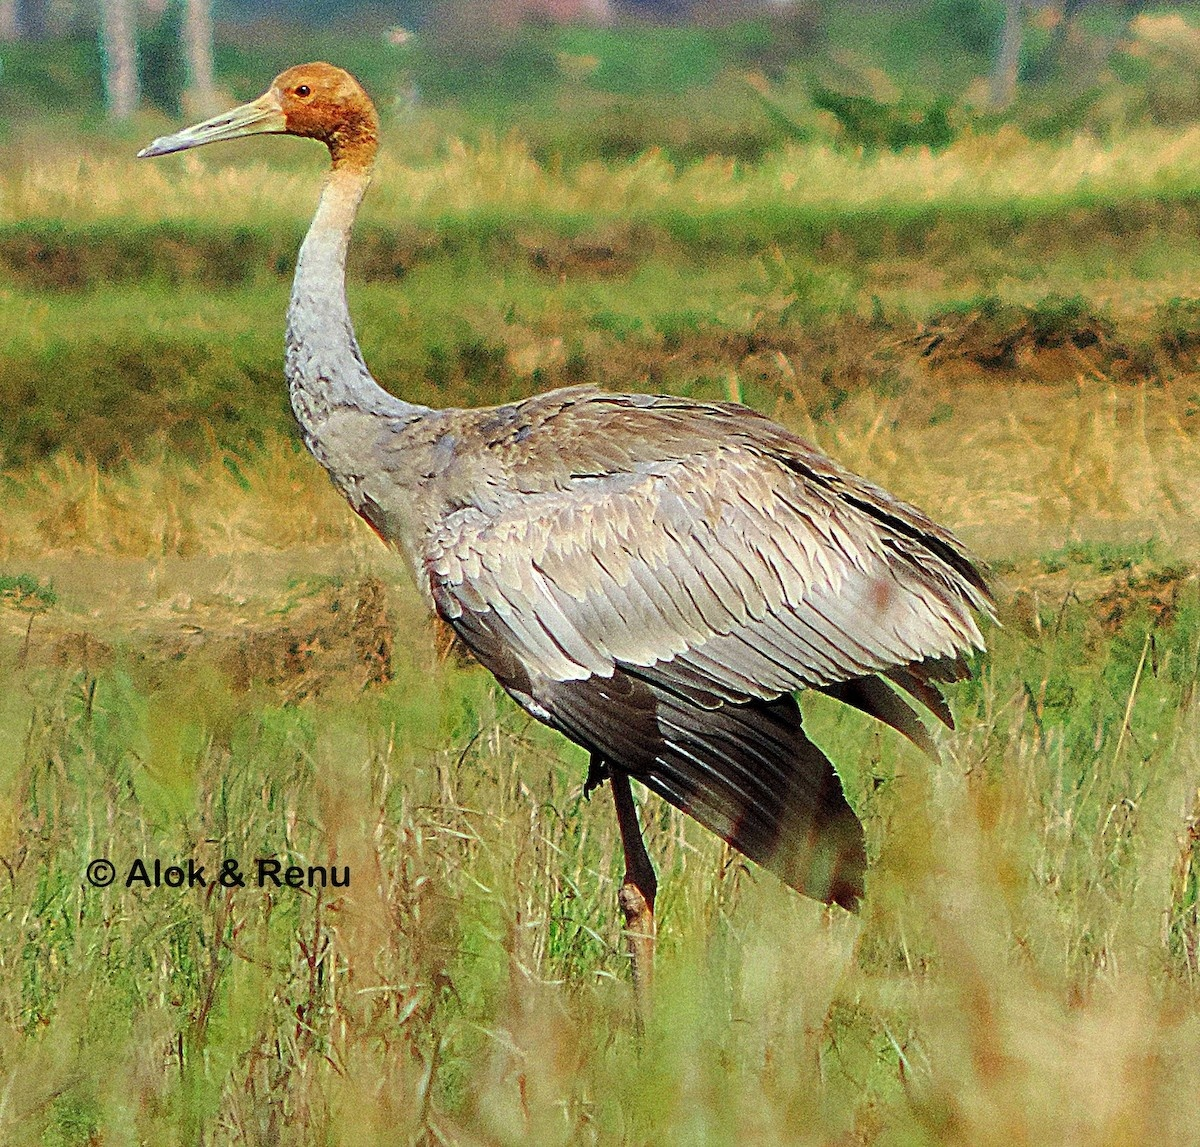crane: (149, 55, 959, 949)
